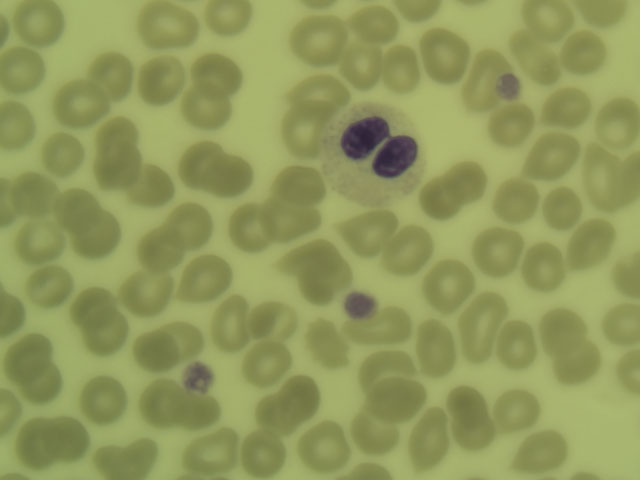Platelets: (185, 366, 211, 387), (345, 294, 375, 311)
RBC: (285, 239, 343, 294), (422, 164, 487, 209), (408, 323, 459, 375), (52, 78, 109, 124), (565, 216, 613, 269), (538, 307, 590, 355), (515, 241, 567, 289), (470, 223, 522, 271), (581, 145, 624, 201), (386, 222, 429, 278), (513, 427, 570, 469), (193, 54, 247, 98), (72, 212, 126, 256), (405, 410, 449, 463), (139, 3, 192, 46), (10, 1, 67, 40), (425, 261, 472, 307), (346, 208, 396, 251), (5, 337, 54, 380), (15, 360, 64, 403), (135, 382, 184, 425), (97, 437, 146, 480), (41, 415, 90, 458), (14, 418, 63, 461), (78, 374, 127, 417), (128, 328, 177, 371), (126, 272, 175, 315), (73, 290, 122, 333), (80, 319, 129, 362), (362, 350, 411, 393), (271, 372, 320, 415), (252, 389, 301, 432), (242, 337, 291, 380), (248, 300, 297, 343), (208, 300, 257, 343), (373, 379, 422, 422), (351, 411, 400, 454), (299, 423, 348, 466), (195, 428, 244, 471), (241, 437, 290, 480), (184, 81, 233, 124), (495, 321, 537, 368), (289, 15, 337, 56), (1, 44, 43, 90), (494, 174, 538, 217), (541, 181, 582, 227), (90, 53, 131, 99), (97, 117, 138, 163), (140, 56, 181, 102), (180, 142, 221, 188), (212, 150, 253, 196), (131, 161, 172, 207), (95, 144, 136, 190), (14, 173, 55, 219), (56, 189, 97, 235), (29, 262, 70, 308), (17, 216, 58, 262), (139, 226, 180, 272), (171, 205, 212, 251), (276, 163, 317, 209), (272, 195, 313, 241), (231, 205, 272, 251), (185, 256, 226, 302), (460, 52, 501, 98), (425, 38, 466, 84), (378, 45, 419, 91), (340, 40, 381, 86), (278, 101, 319, 147), (44, 128, 85, 174), (546, 80, 587, 126), (519, 37, 560, 83), (490, 105, 531, 151), (298, 73, 339, 119), (554, 339, 595, 385), (595, 99, 636, 145), (356, 312, 410, 345), (494, 390, 548, 423), (1, 100, 37, 149), (560, 31, 607, 67), (307, 322, 346, 363), (599, 306, 640, 344), (349, 7, 397, 36), (205, 1, 254, 28), (580, 1, 627, 29), (528, 1, 569, 33), (183, 394, 224, 425), (613, 350, 640, 395), (446, 386, 485, 416), (615, 255, 640, 299)
WBC: (327, 110, 420, 202)
